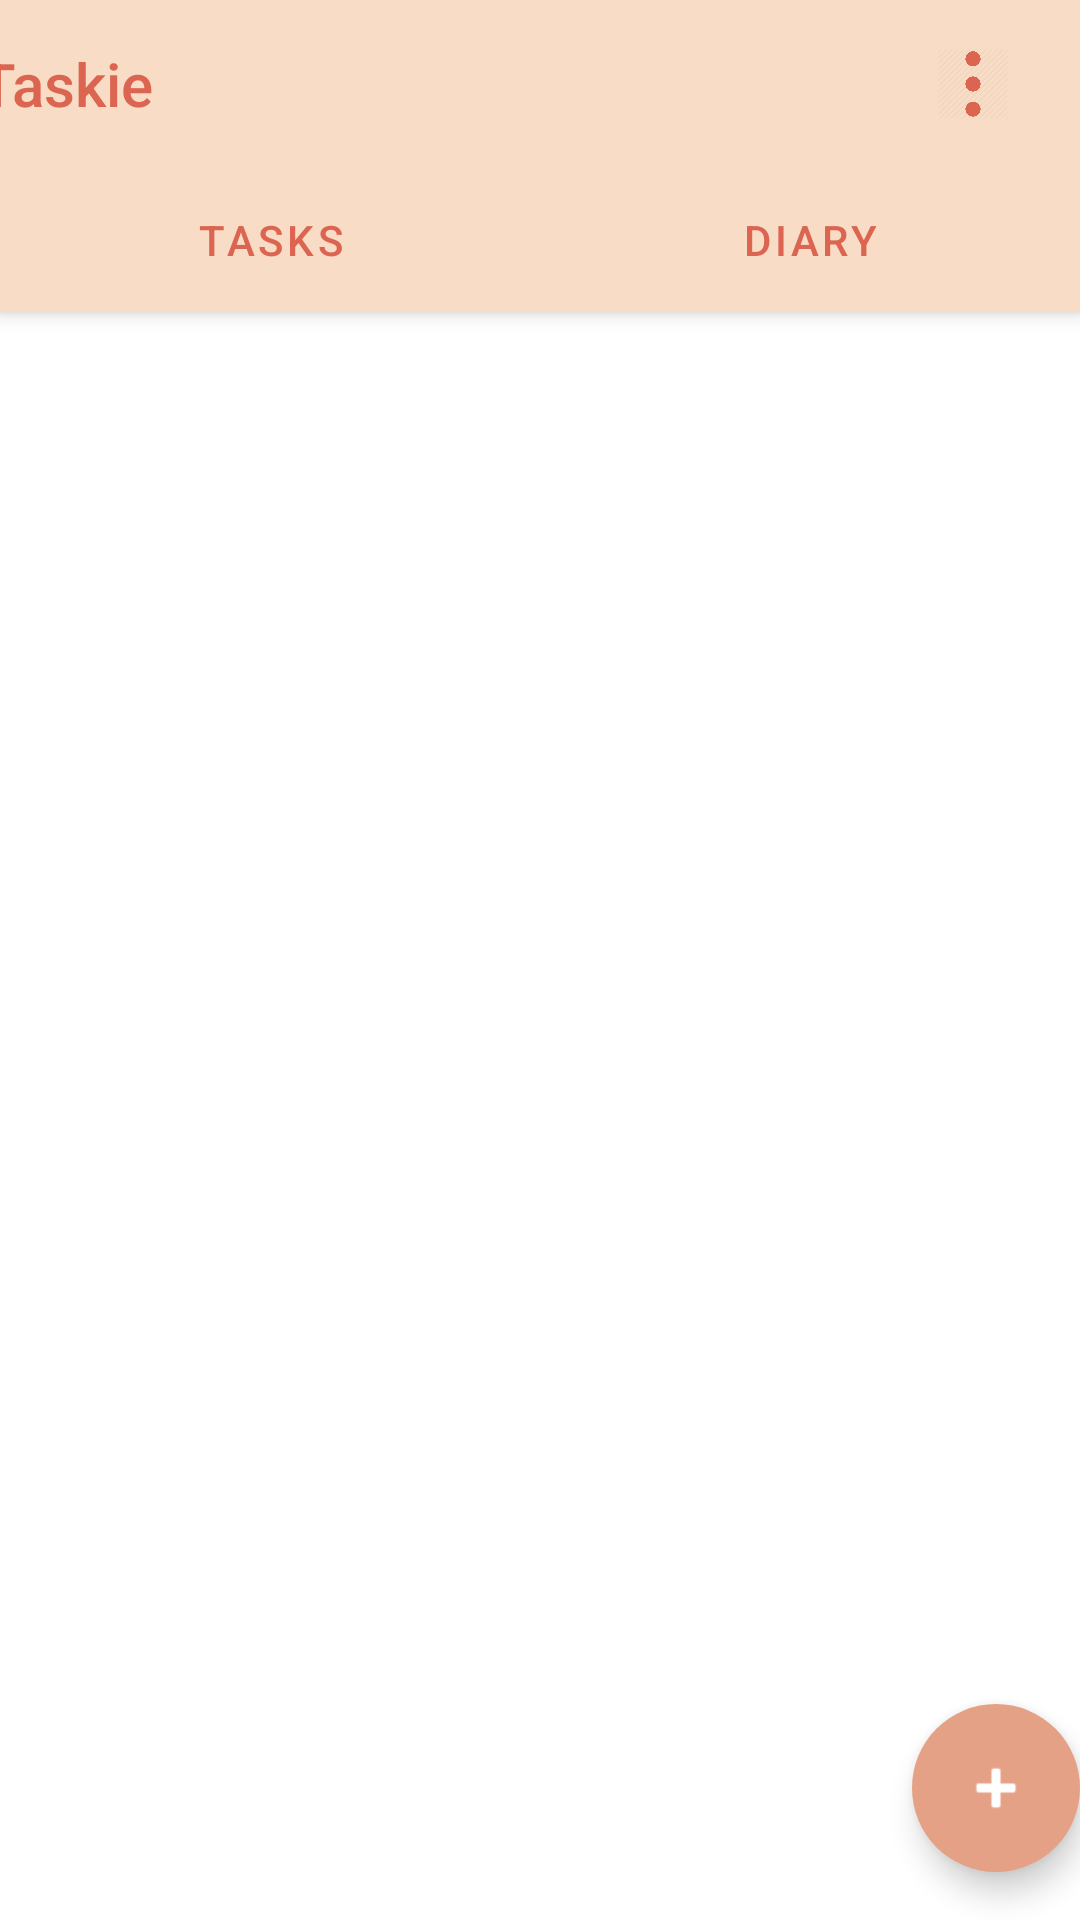

Icons on this 1080 × 1920 Android screen, each with the point to tap as [x,y]:
add: [996,1788]
three dots: [973,84]
